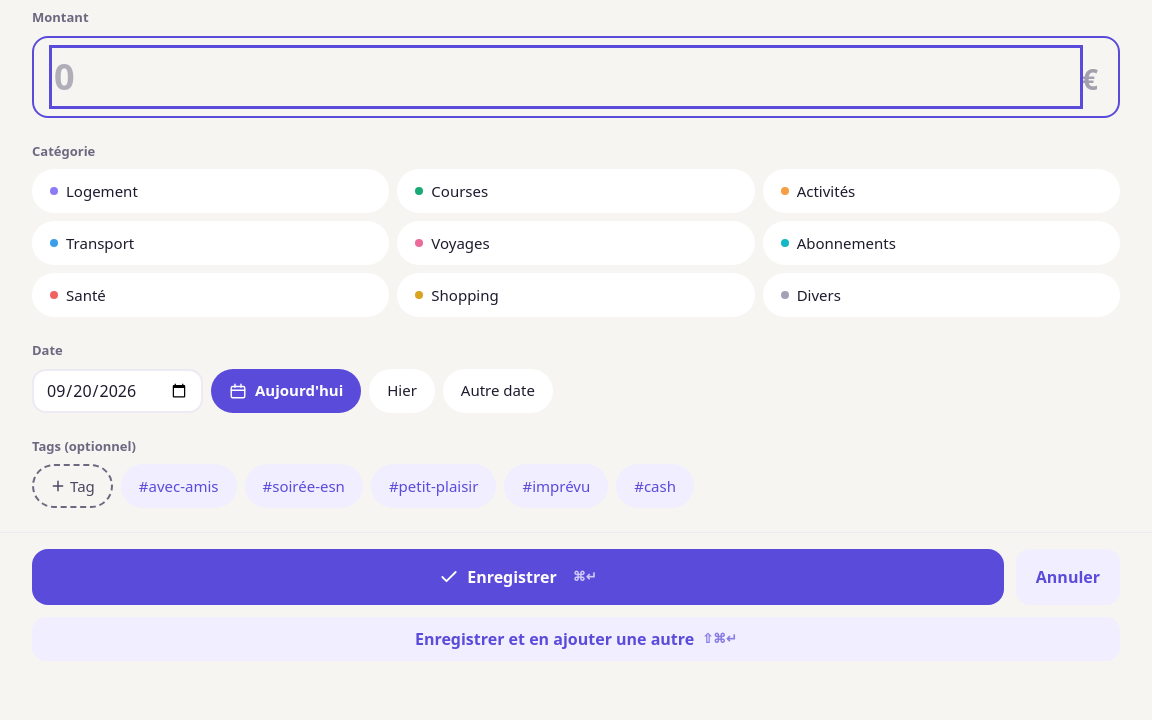
Test: ExpenseForm › refuse un formulaire vide et explique pourquoi
Click the button "Enregistrer ⌘↵": point(518, 577) top-left (32, 549), bottom-right (1004, 605)
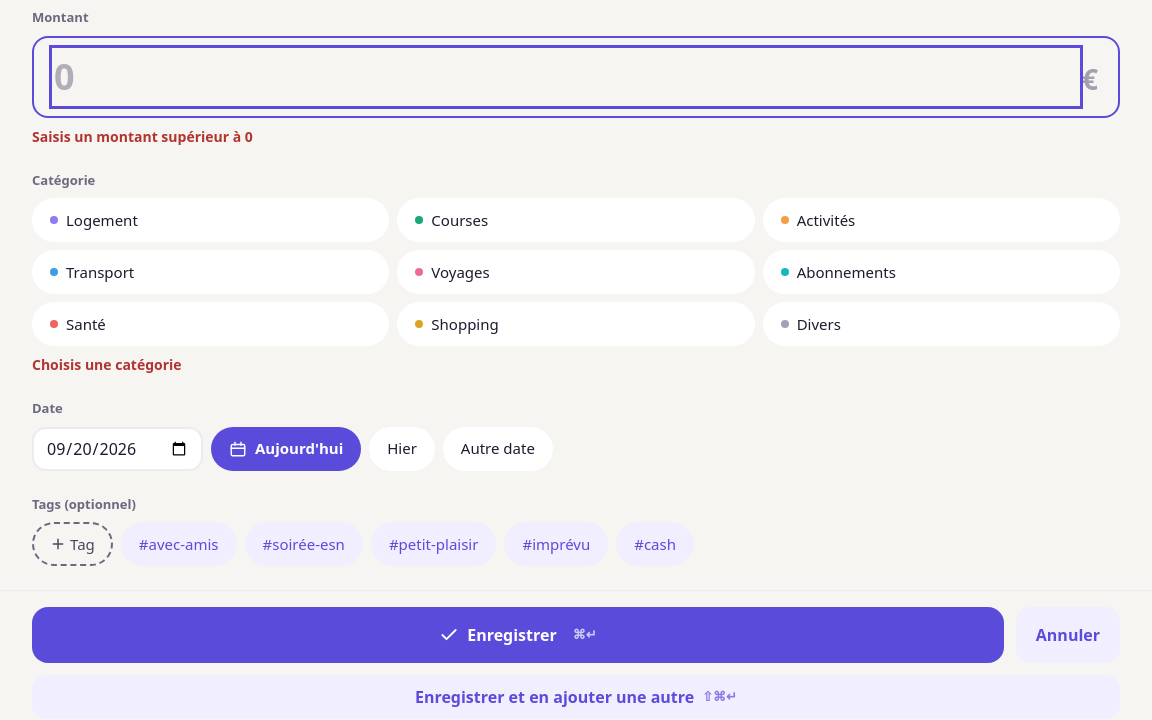
Expected: the text "Saisis un montant supérieur à 0" is shown, top-left (32, 126), bottom-right (253, 146)
Expected: the text "Choisis une catégorie" is shown, top-left (32, 355), bottom-right (182, 374)
